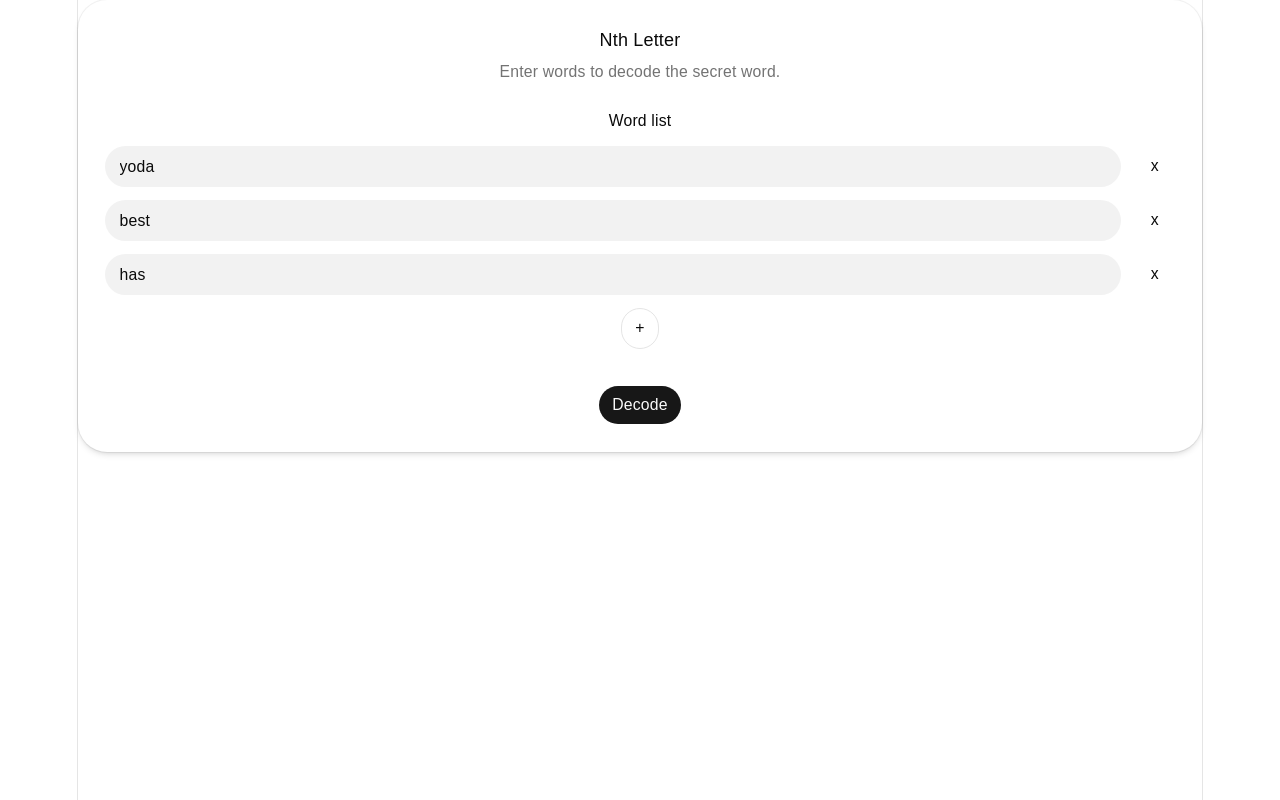
Scenario: NthLetterChallenge › adds a new word input
Step 1. Click the button "+" → (640, 329), box [621, 308, 659, 349]
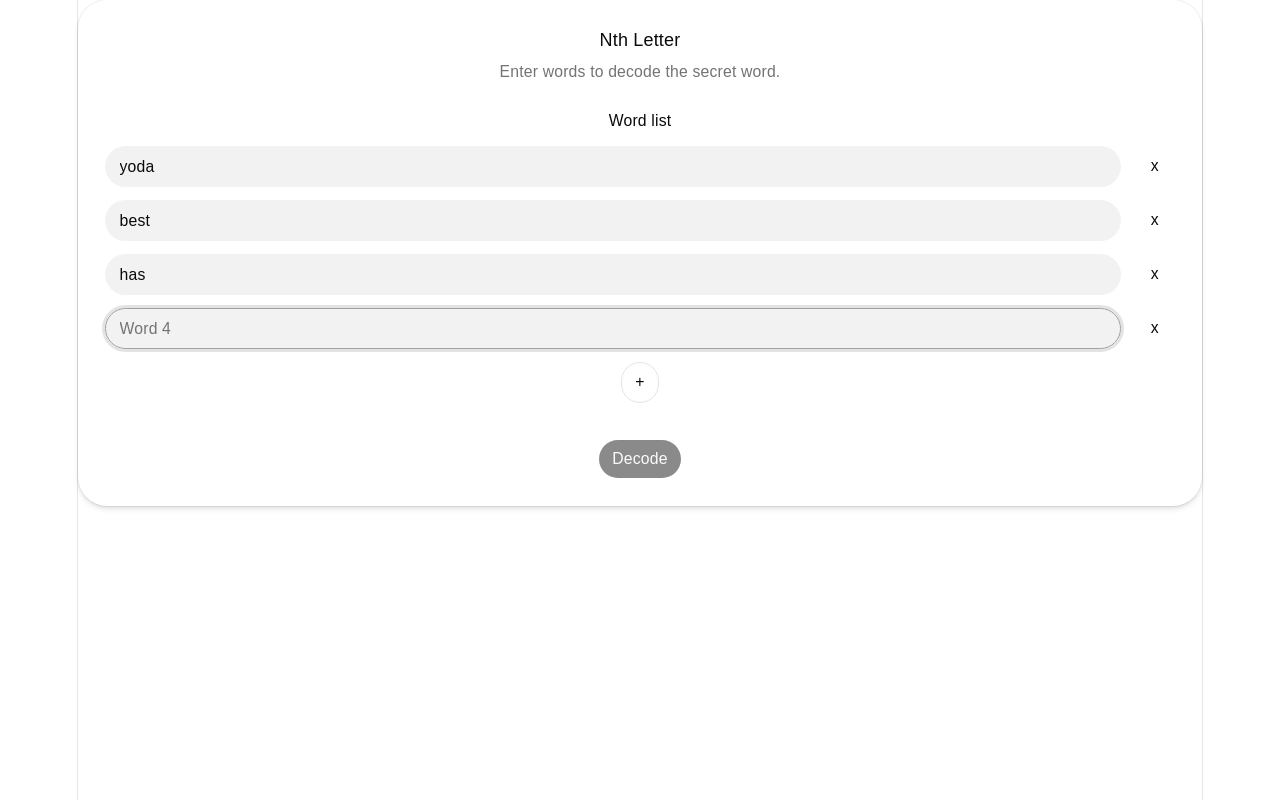
Expected: the number of fields with placeholder "Word 1" is 4, [105, 146, 1121, 187]; [105, 200, 1121, 241]; [105, 254, 1121, 295]; [105, 308, 1121, 349]
Expected: the field with placeholder "Word 4" is empty, [105, 308, 1121, 349]
